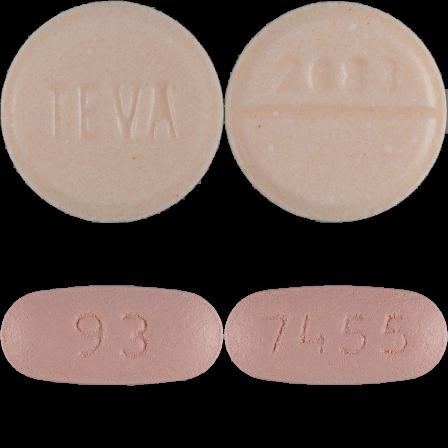54868-0792: (0, 0, 224, 224)
